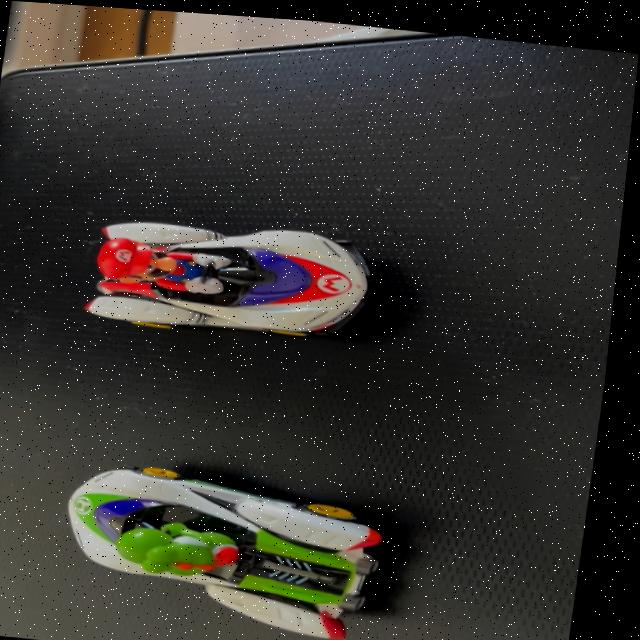mario: (61, 190, 415, 358)
yoshi: (34, 436, 435, 640)
